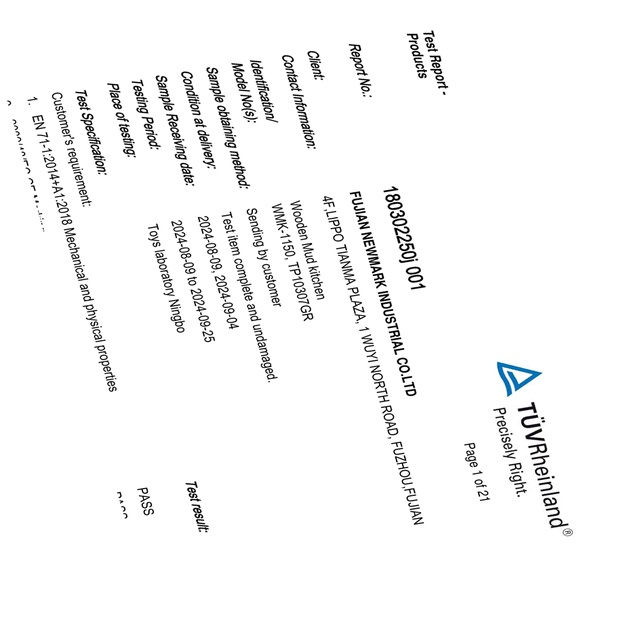tuv_rheinland: (496, 358, 575, 545)
